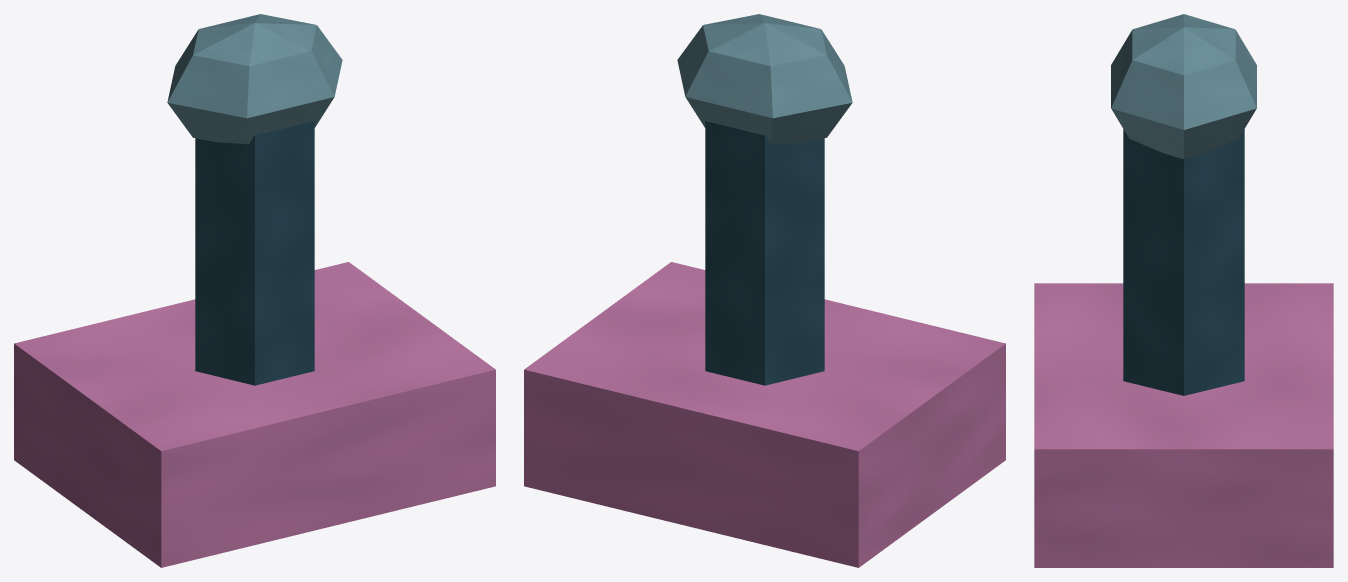
Rendered from atlas100-s063-a05.lod1.glb.
3 renders of one model, left to right at view 1: azimuth 30°, elevation 25°; view 2: azimuth 150°, elevation 25°; view 3: azimuth 270°, elevation 25°, orthographic.
Visible parts, largest first — view 1: atlas100-s063-a05:part-000, atlas100-s063-a05:part-001, atlas100-s063-a05:part-002; view 2: atlas100-s063-a05:part-000, atlas100-s063-a05:part-001, atlas100-s063-a05:part-002; view 3: atlas100-s063-a05:part-000, atlas100-s063-a05:part-001, atlas100-s063-a05:part-002.
Part boxes in pixels (left/top/right/bottom): atlas100-s063-a05:part-000: left=14, top=262, right=495, bottom=567; atlas100-s063-a05:part-001: left=195, top=120, right=314, bottom=385; atlas100-s063-a05:part-002: left=167, top=14, right=342, bottom=144; atlas100-s063-a05:part-000: left=524, top=262, right=1005, bottom=567; atlas100-s063-a05:part-001: left=705, top=120, right=824, bottom=385; atlas100-s063-a05:part-002: left=677, top=14, right=852, bottom=144; atlas100-s063-a05:part-000: left=1034, top=283, right=1333, bottom=567; atlas100-s063-a05:part-001: left=1123, top=129, right=1244, bottom=395; atlas100-s063-a05:part-002: left=1111, top=14, right=1256, bottom=159.
Size of the model in its own units: 0.4586 by 0.5897 by 0.3494.
3 materials, 3 textured.
